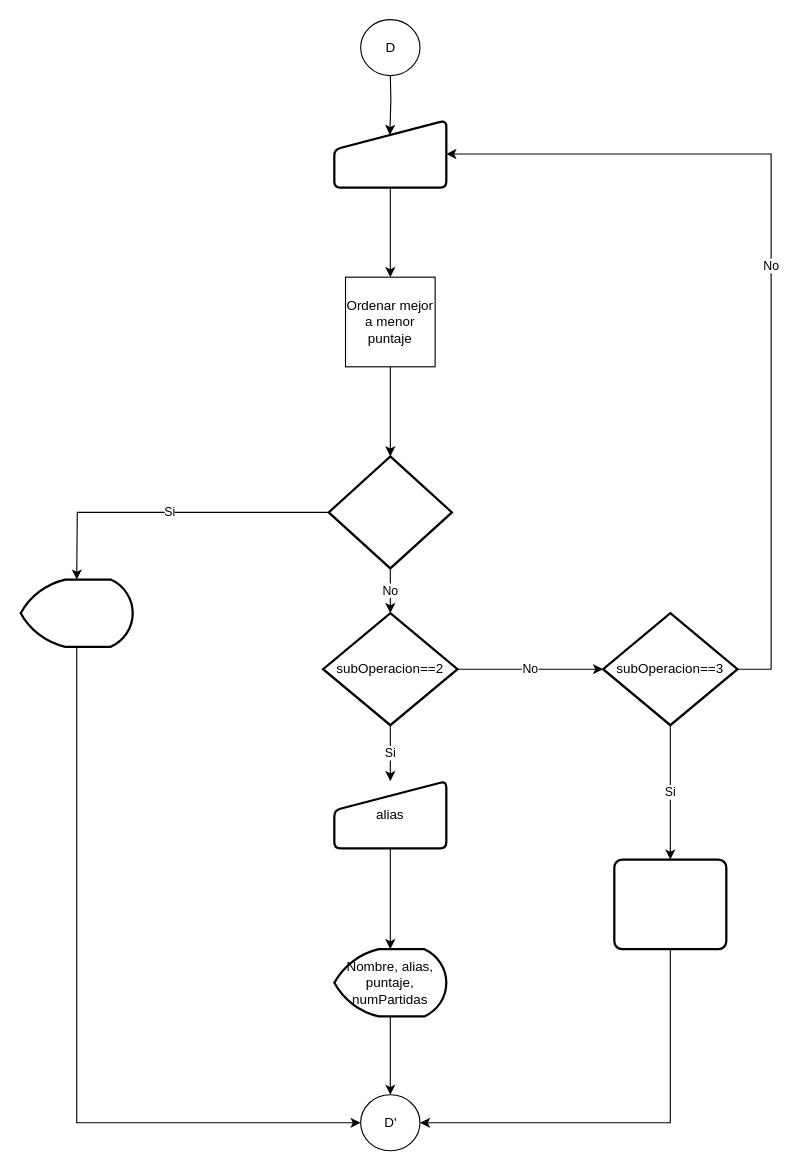
Some shapes in this 800 by 1170 pixel diagram are drawn without their labels. The shapes that lost their labels are listed below. From the top down, each one's centre as x and y in pixels, then its label:
point (390, 153): subOperacion
point (389, 512): subOperacion==1
point (76, 612): mejoresPuntajes
point (670, 904): Exportar reporte
